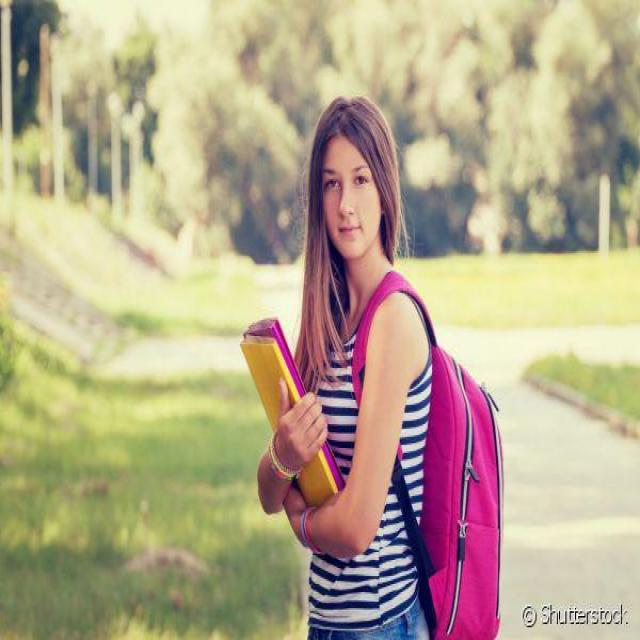person: (212, 67, 506, 638)
